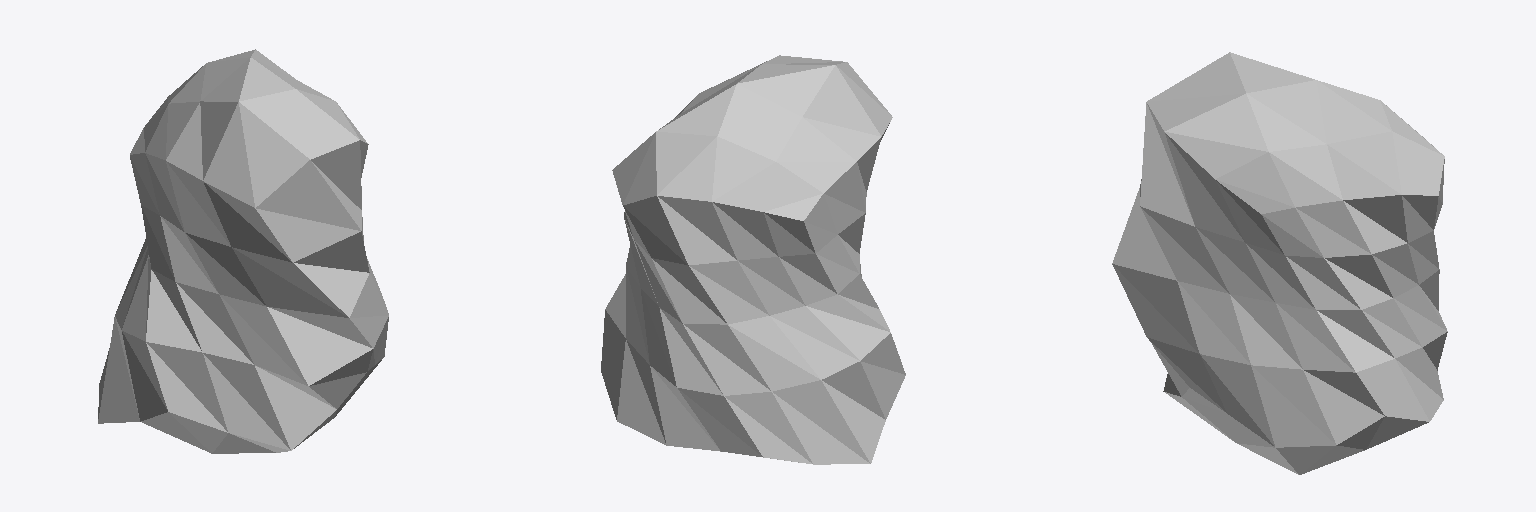
The model's file is Asteroid1.obj.
3 views of the same model, side by side, from view 1: azimuth 30°, elevation 25°; view 2: azimuth 150°, elevation 25°; view 3: azimuth 270°, elevation 25° (orthographic).
Visible parts, largest first — view 1: rock.001; view 2: rock.001; view 3: rock.001.
Boxes of the visible parts, box(x1,y1,x2,y2) form: rock.001: box(98, 49, 388, 453); rock.001: box(601, 55, 905, 464); rock.001: box(1112, 52, 1447, 474).
Size of the model in its own units: 0.8894 by 1.19 by 0.9904.